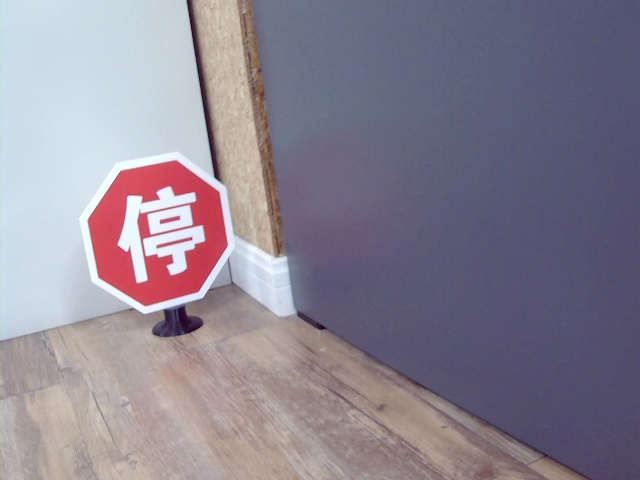stop: (114, 188, 207, 282)
